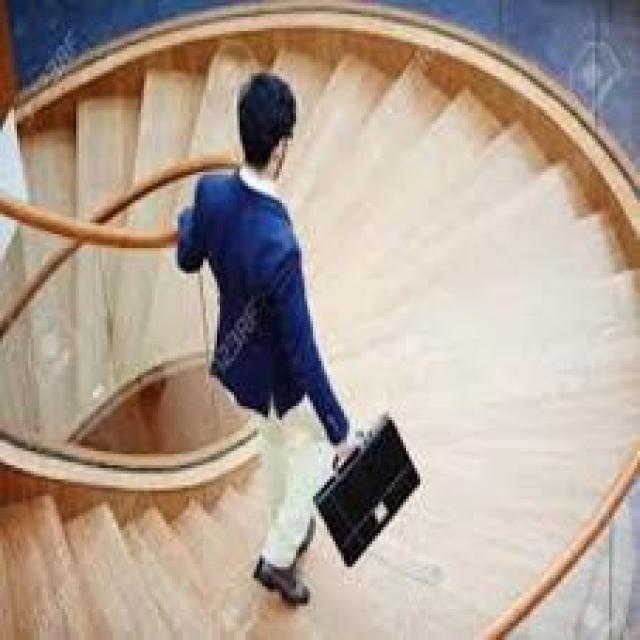downstair: (325, 226, 616, 441)
